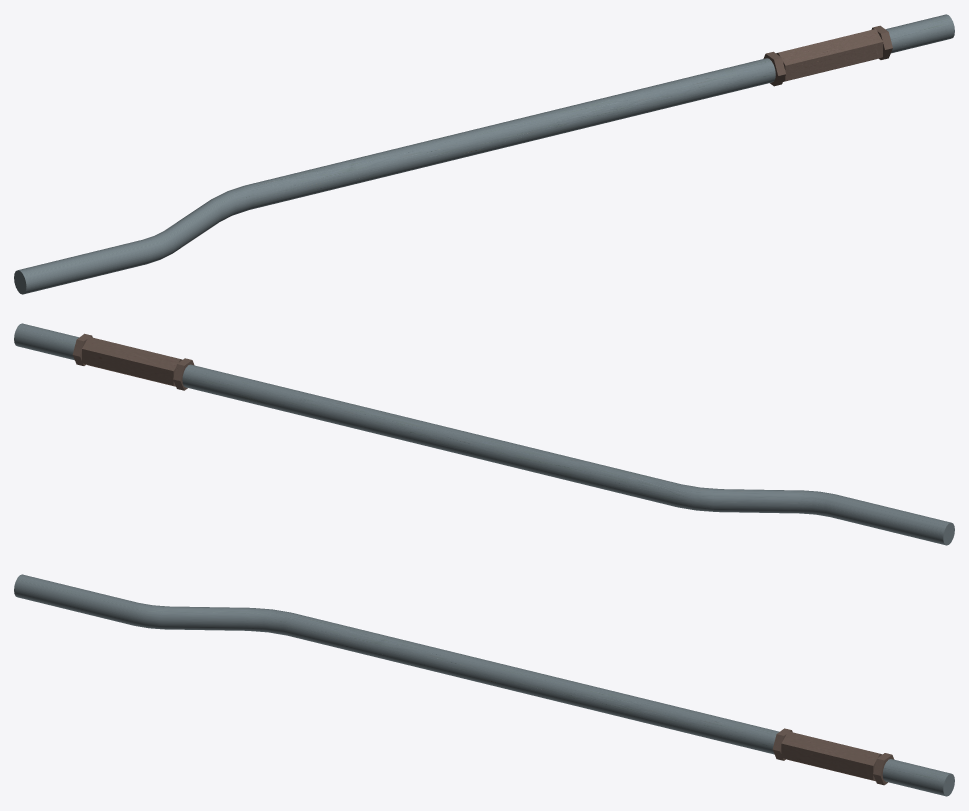
The model's file is Switcher_Shifter.FBX.
3 renders of one model, top to bottom at view 1: azimuth 30°, elevation 25°; view 2: azimuth 150°, elevation 25°; view 3: azimuth 330°, elevation 25°, orthographic. The views are drawn at different scales.
Visible parts, largest first — view 1: Switcher_Shifter; view 2: Switcher_Shifter; view 3: Switcher_Shifter.
Boxes of the visible parts, box(x1,y1,x2,y2) form: Switcher_Shifter: box(14, 14, 954, 294); Switcher_Shifter: box(14, 323, 954, 545); Switcher_Shifter: box(14, 574, 954, 796).
Bounding box in the file's own units: 177 × 14.22 × 5.4.
